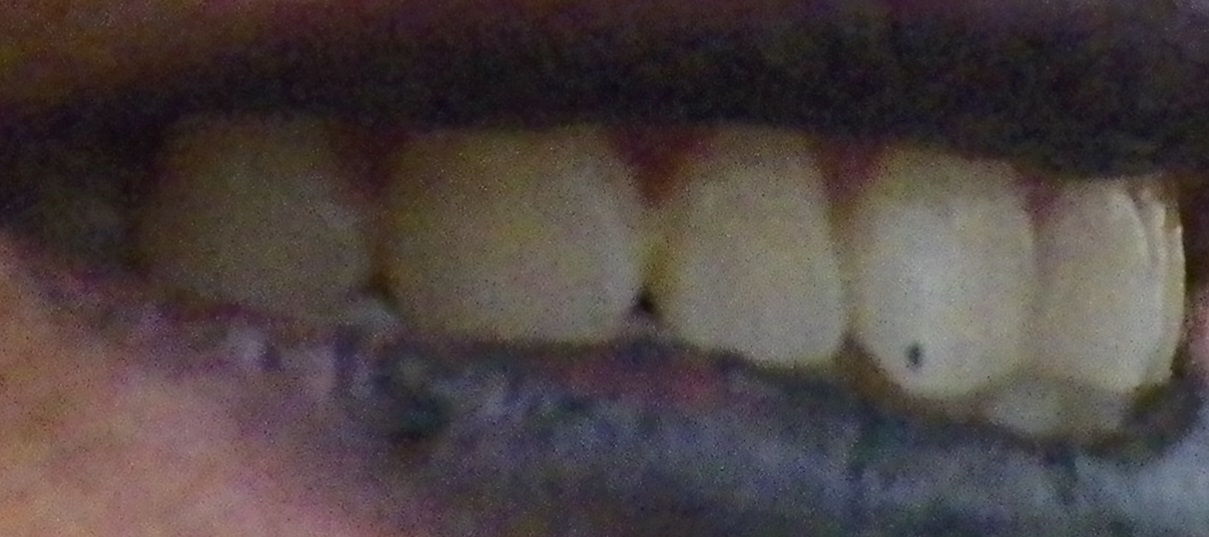boca: (60, 103, 1188, 449)
